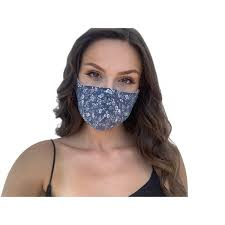with-mask: (69, 31, 151, 134)
